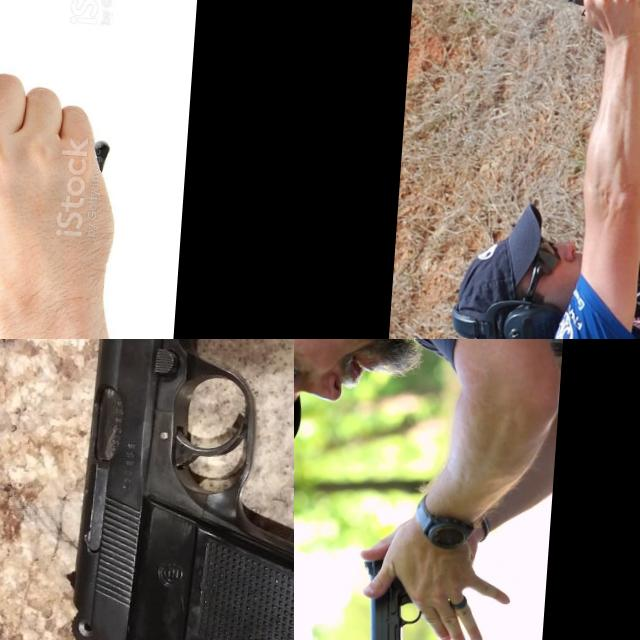handgun: (56, 339, 294, 640), (0, 0, 86, 243), (352, 555, 425, 640), (563, 0, 618, 68)
